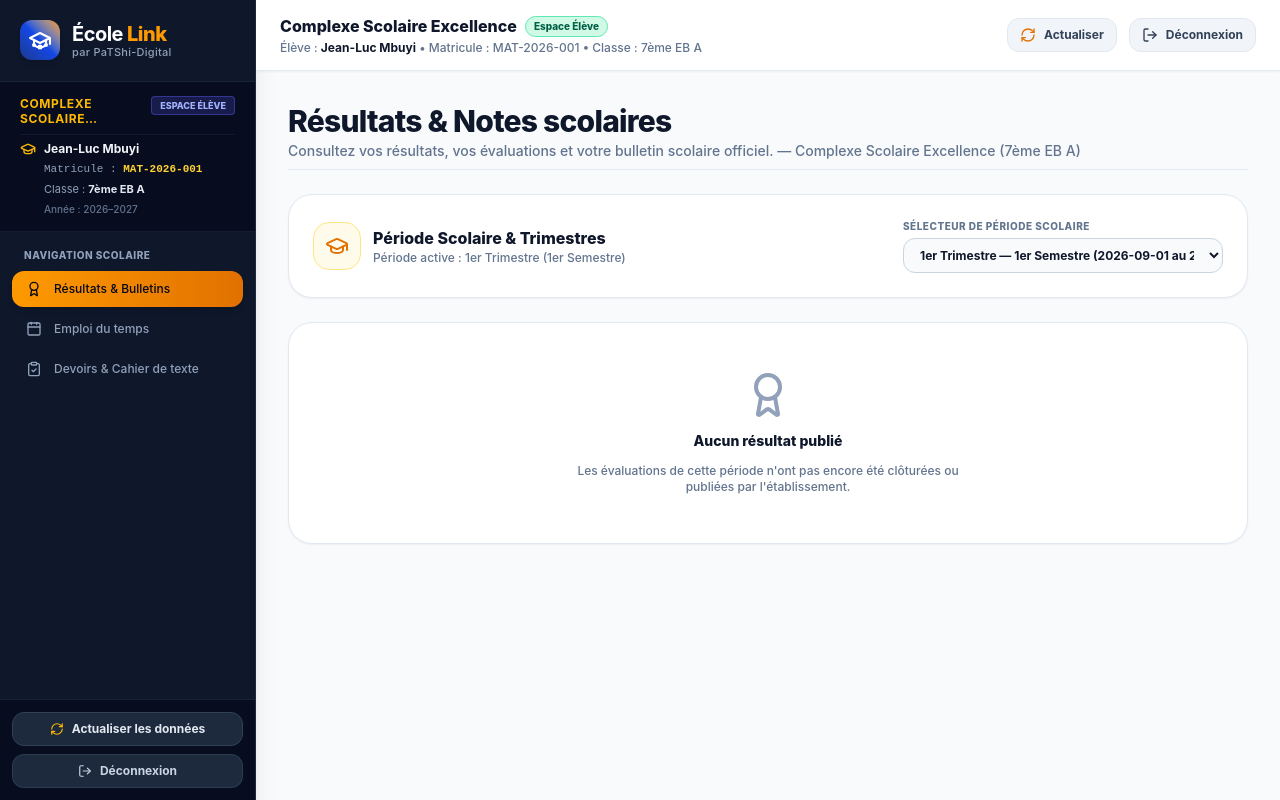
Scenario: RealStudentPortal — Lot 2K-T5 (Validation Visuelle & Sécurité Élève) › 10. Affiche et permet la navigation vers la troisième rubrique Devoirs & Cahier de texte
Check: the heading "Résultats & Notes scolaires" is shown, box x1=288 y1=103 x2=672 y2=139
Click the button "Devoirs & Cahier de texte" at (128, 368), box x1=12 y1=350 x2=243 y2=386
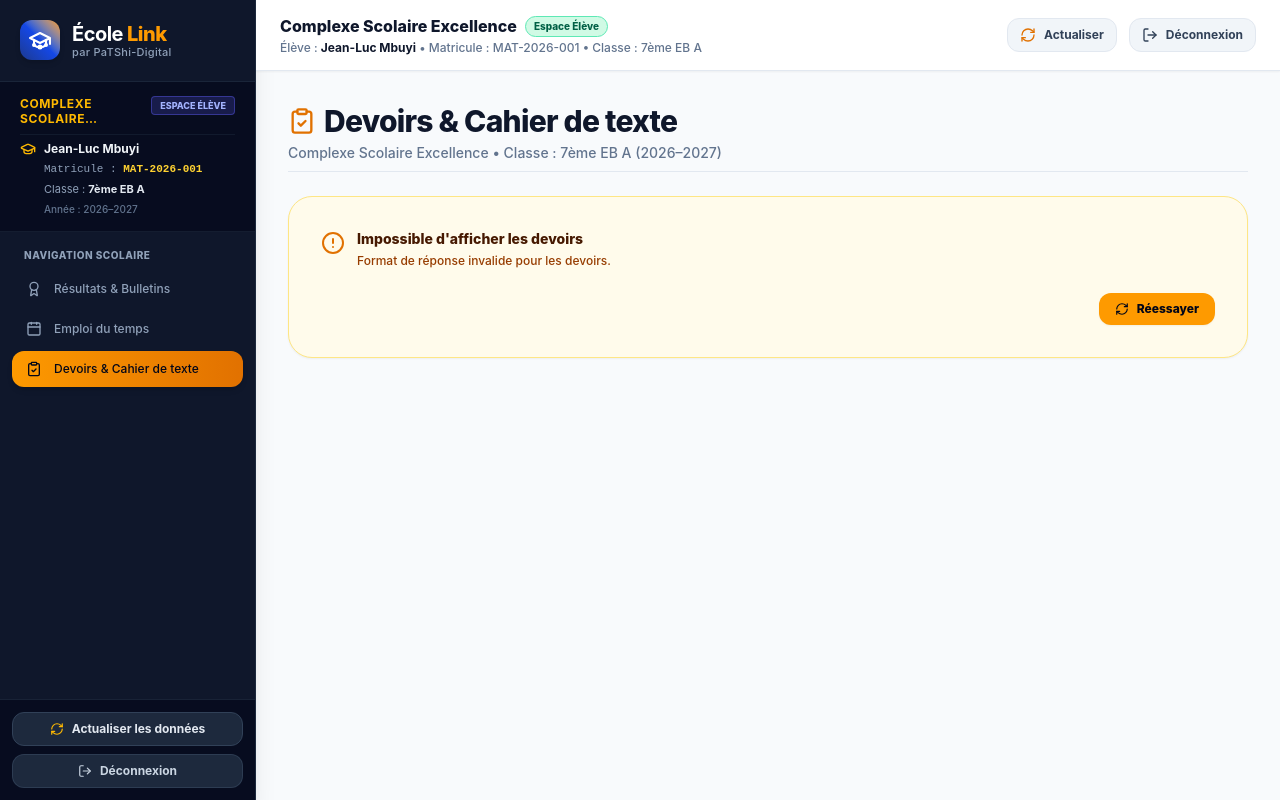
Check: the heading "Devoirs & Cahier de texte" is shown, box x1=324 y1=103 x2=677 y2=139
